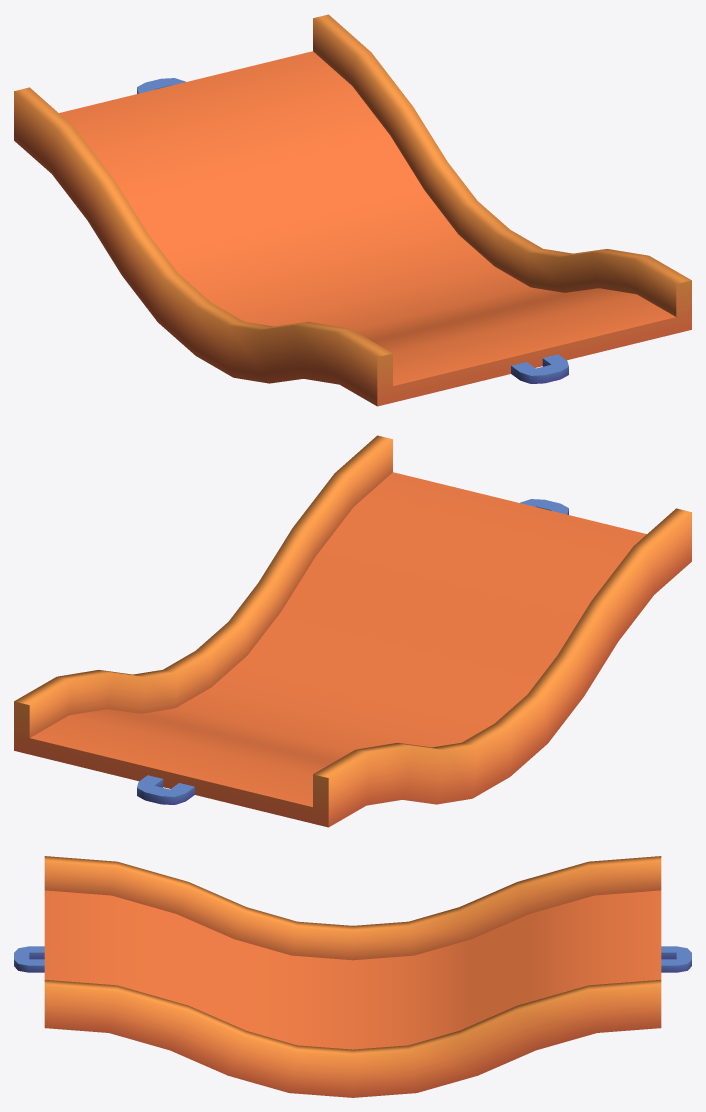
Rendered from track-wide-straight-bump-down.glb.
3 renders of one model, top to bottom at view 1: azimuth 30°, elevation 25°; view 2: azimuth 150°, elevation 25°; view 3: azimuth 270°, elevation 25°, orthographic. The views are drawn at different scales.
Visible parts, largest first — view 1: track-wide-straight-bump-down; view 2: track-wide-straight-bump-down; view 3: track-wide-straight-bump-down.
Boxes of the visible parts, x1,y1,x2,y2 form: track-wide-straight-bump-down: (14,14,691,406); track-wide-straight-bump-down: (14,435,691,827); track-wide-straight-bump-down: (14,856,691,1097).
Bounding box in the file's own units: 2 × 0.7998 × 4.4.
Materials: 1 (1 with a texture image).
